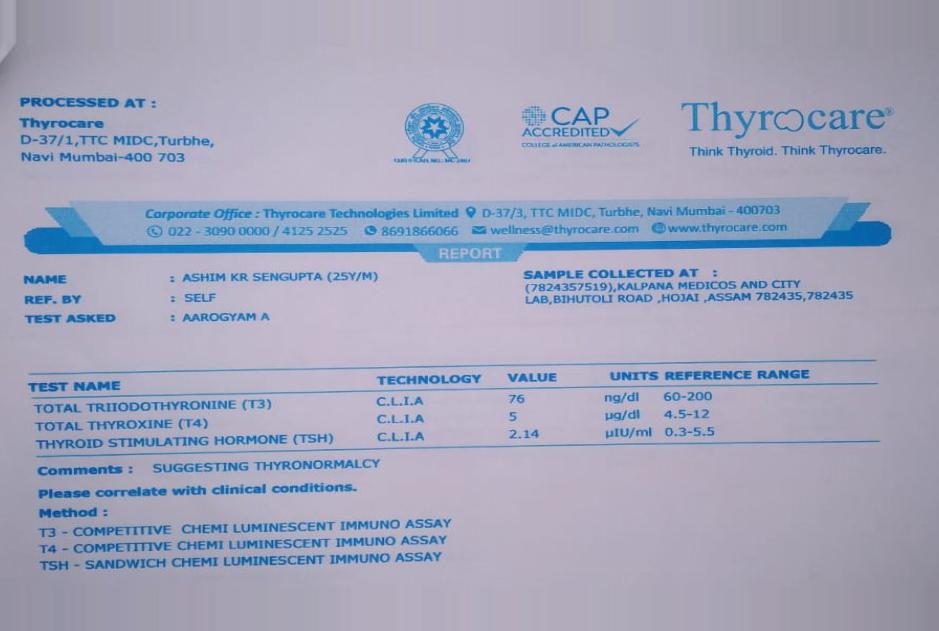Reference Range: (658, 384, 724, 446)
Test Name: (27, 393, 342, 457)
Units: (598, 385, 660, 446)
Value: (500, 387, 553, 447)
